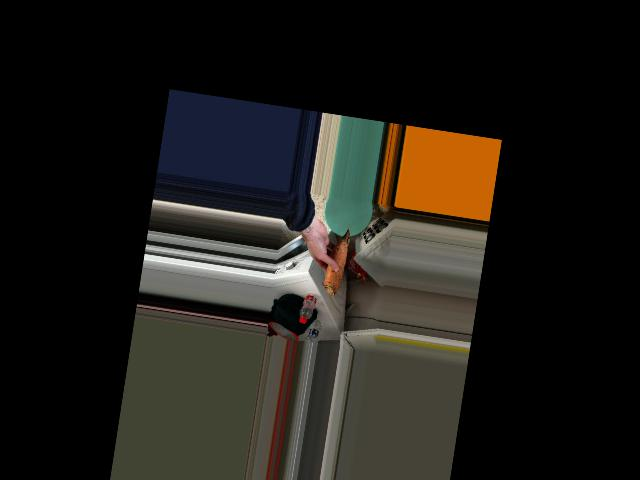sweet_potato: (323, 227, 350, 292)
